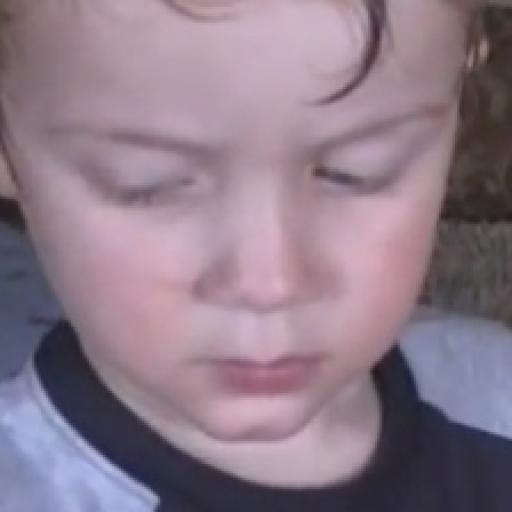Autism: (0, 30, 485, 441)
